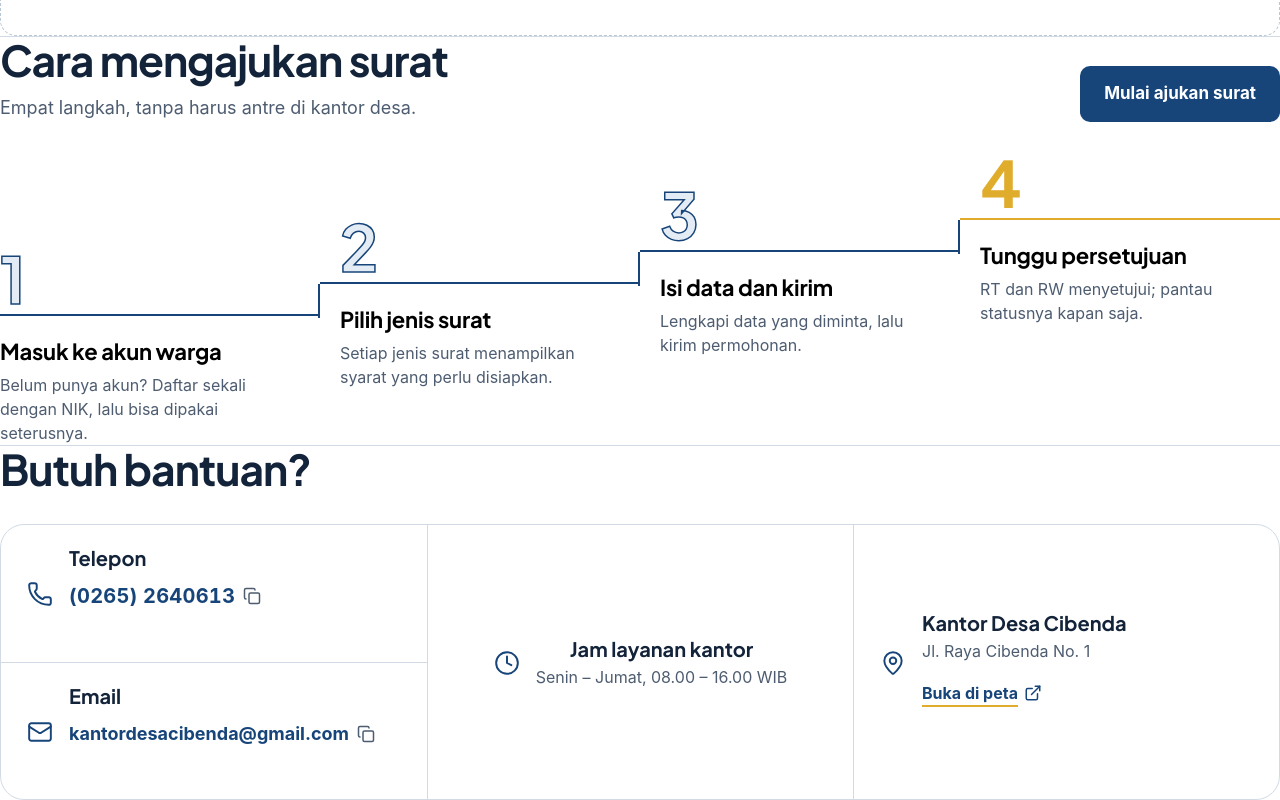
Test: BerandaPage contact section › tells the user when the phone number could not be copied
(page scrolled)
Click the button named "Salin nomor telepon" at (165, 596), box [69,574,261,618]
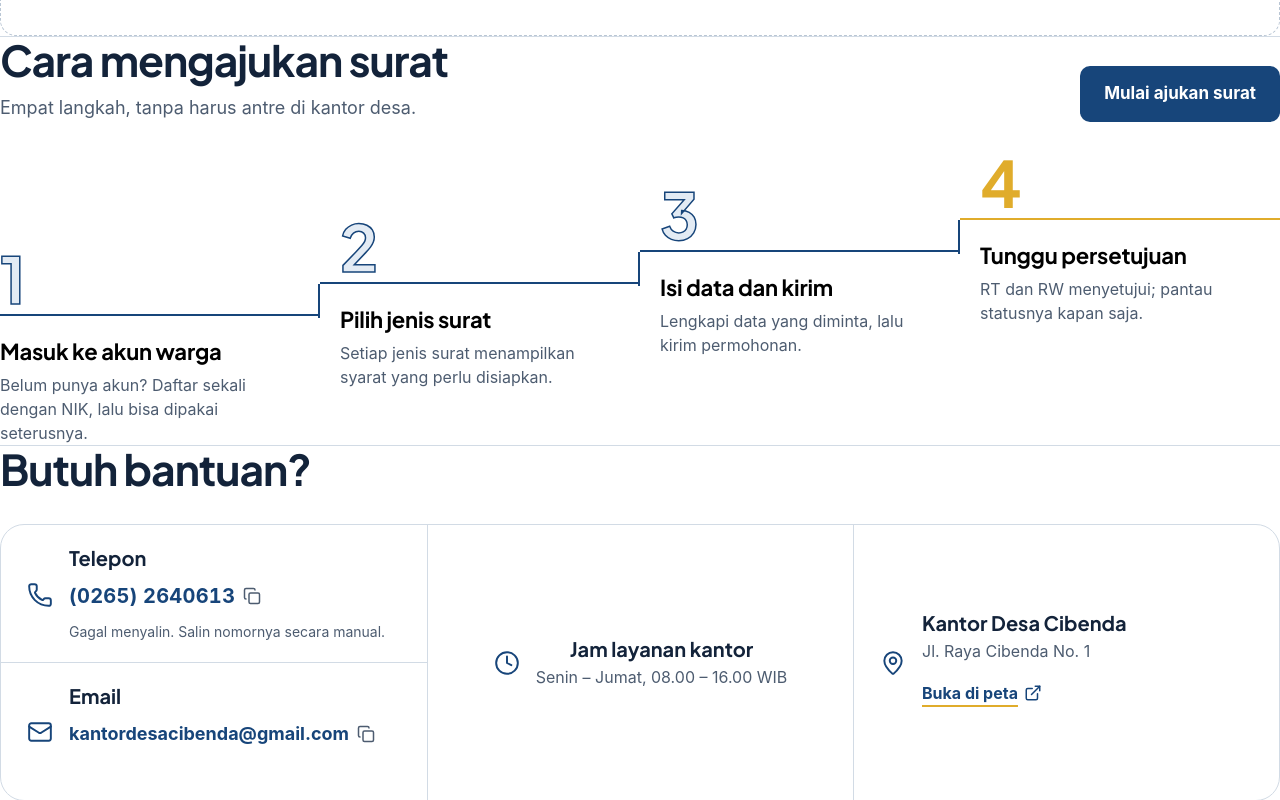
Now the text "Gagal menyalin. Salin nomornya secara manual." is shown, box [69,622,385,642]
